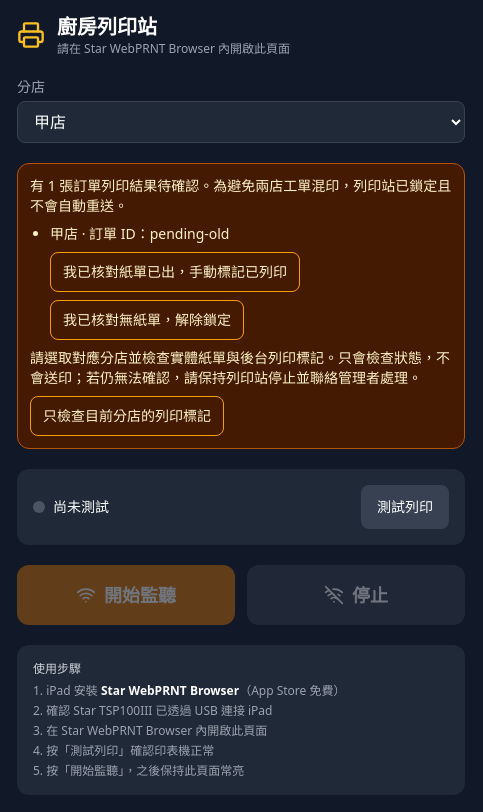
Test: print station delayed sweep lifecycle › blocks manual resolution during lookup and ignores results after switching branches
expect the message shows "pending-old": met, box [150,224,229,243]
Click the button "只檢查目前分店的列印標記".
click(127, 416)  # box [30,396,224,436]
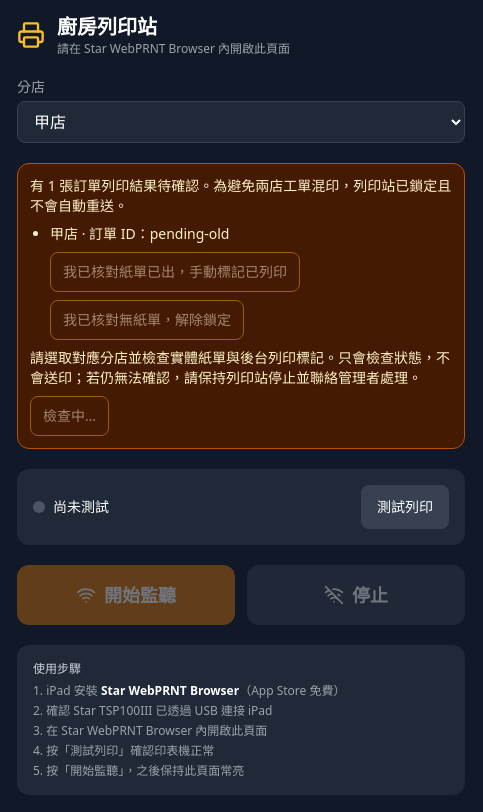
expect the button "我已核對無紙單，解除鎖定" is disabled: met, box [50,300,244,340]
Select "乙店" in the dropdown at {"x": 241, "y": 122}, box [17,101,465,143]
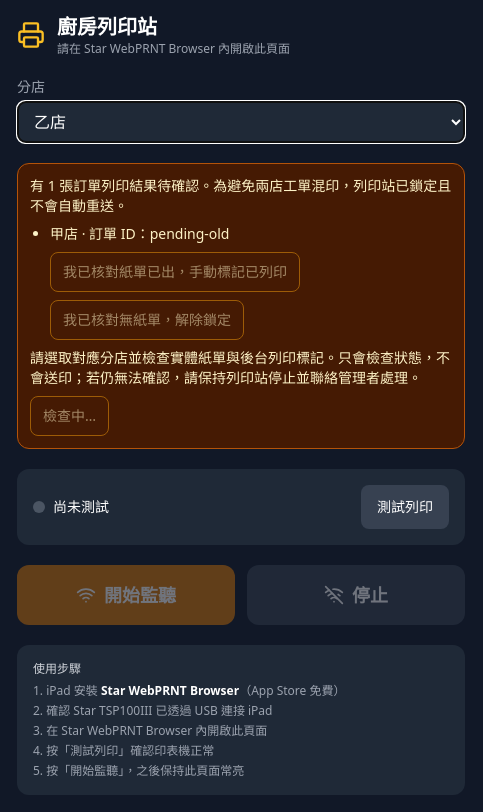
Select "甲店" in the dropdown at {"x": 241, "y": 122}, box [17,101,465,143]
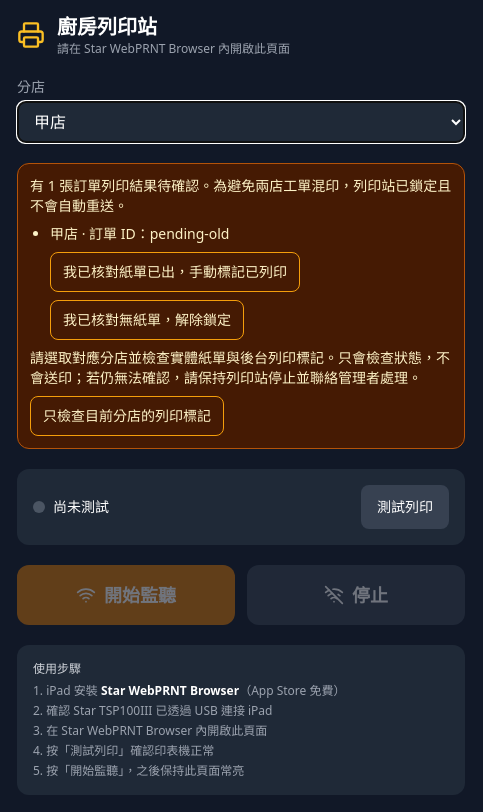
expect the button "檢查中…" is gone: met
